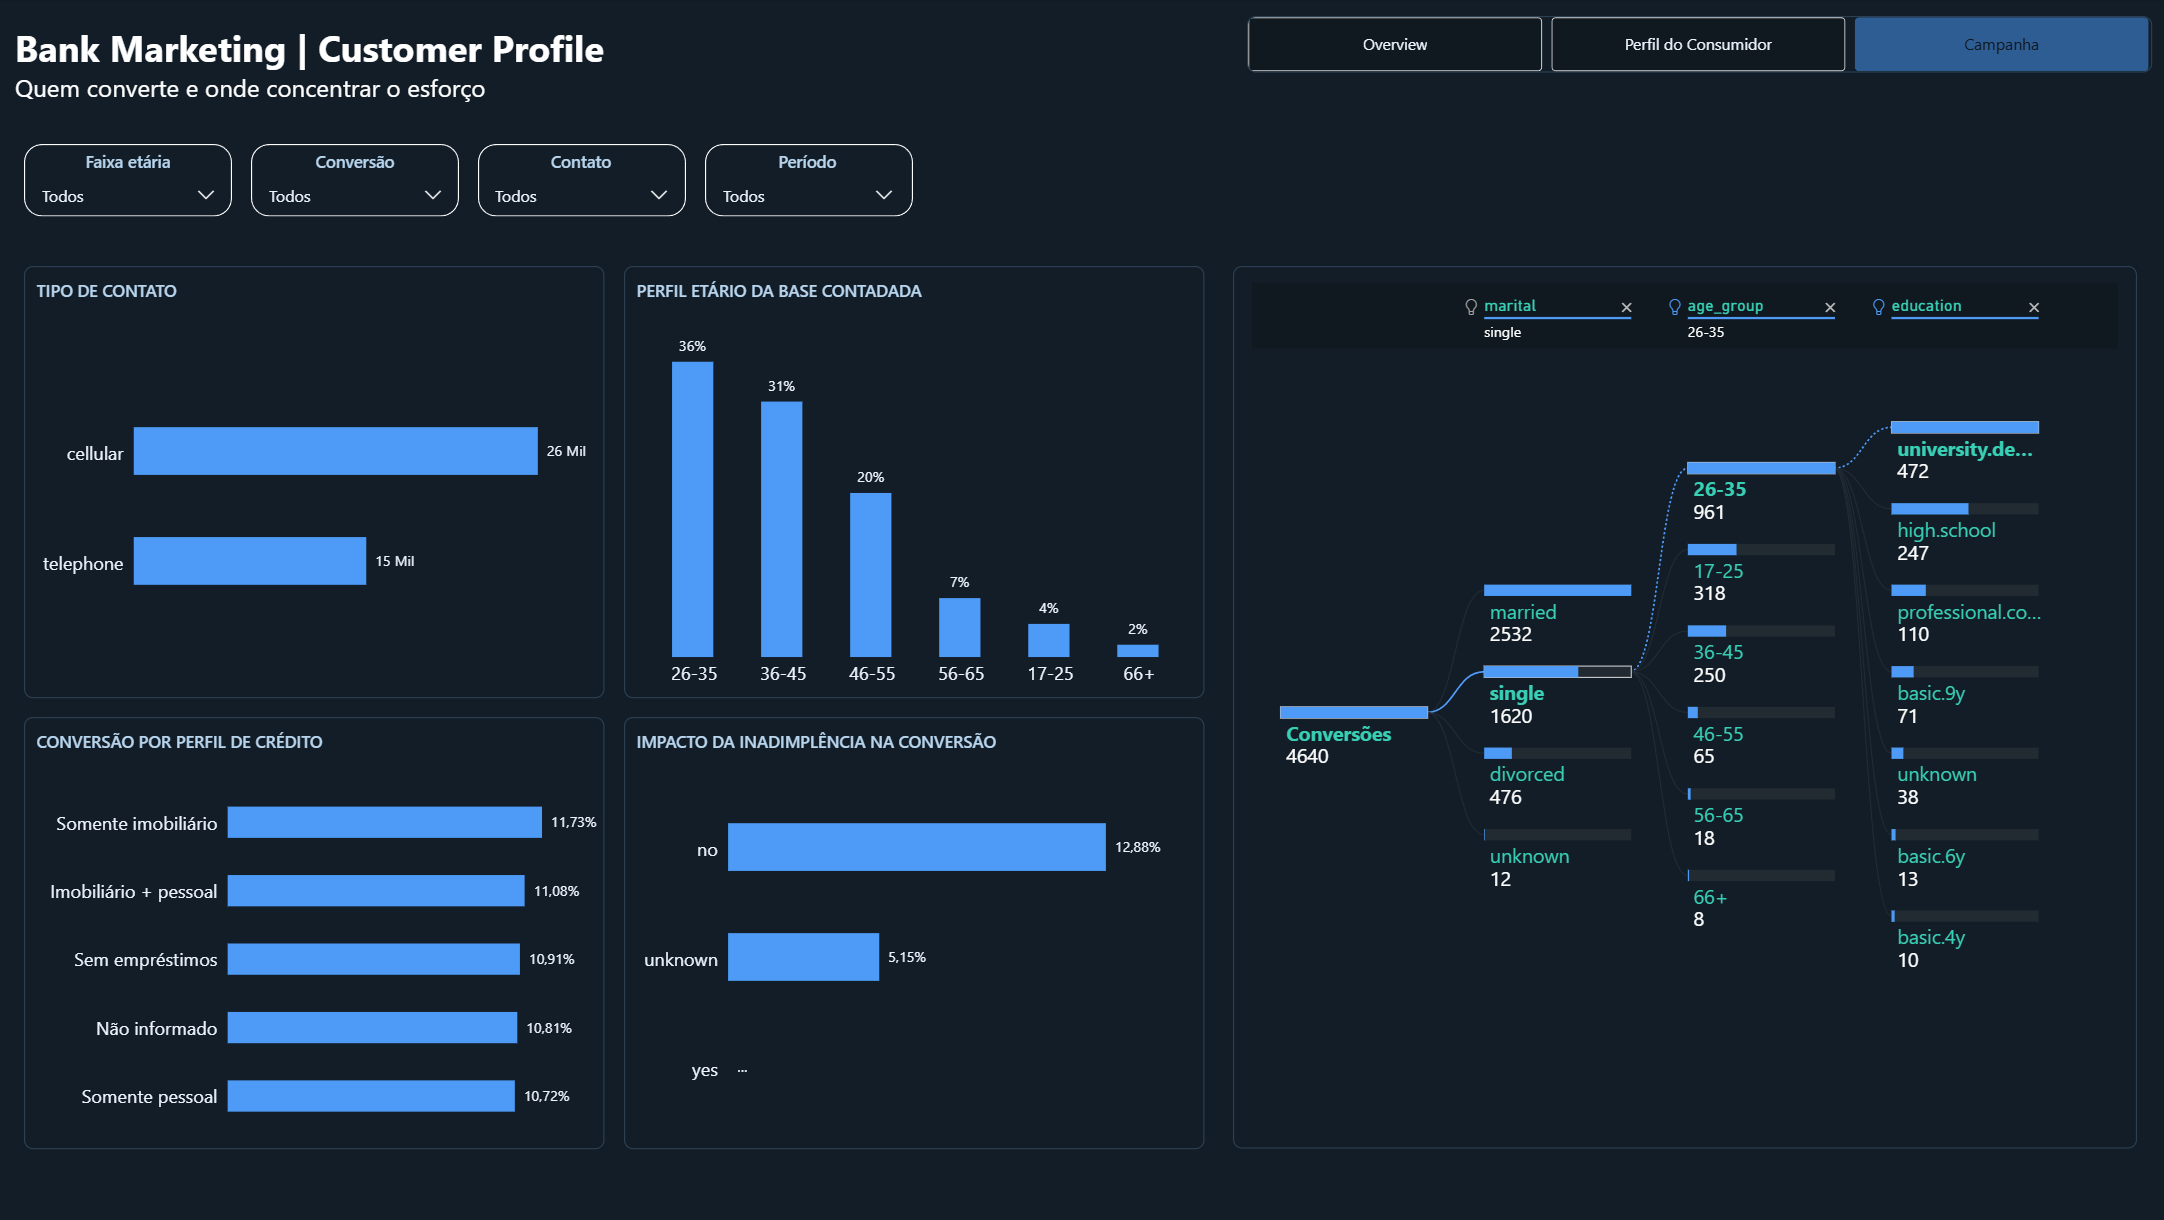

This screenshot's page, from the dashboard's own definition file:
{"tool":"powerbi","page":{"name":"Campanha","canvas":[1920,1080],"ordinal":2},"visuals":[{"type":"clusteredBarChart","title":"TIPO DE CONTATO","fields":{"Category":["vw_bank_marketing.contact"],"Y":["CountNonNull(vw_bank_marketing.contact)"]},"box":[24,236.4,512.8,381.6],"z":0},{"type":"clusteredColumnChart","title":"PERFIL ETÁRIO DA BASE CONTADADA","fields":{"Category":["vw_bank_marketing.age_group"],"Y":["CountNonNull(vw_bank_marketing.contact)"]},"box":[553.9,236.4,512.8,381.6],"z":1000},{"type":"clusteredBarChart","title":"CONVERSÃO POR PERFIL DE CRÉDITO","fields":{"Category":["vw_bank_marketing.Perfil de Crédito"],"Y":["vw_bank_marketing.Conversion Rate"]},"box":[24,635,512.8,381.6],"z":2000},{"type":"clusteredBarChart","title":"IMPACTO DA INADIMPLÊNCIA NA CONVERSÃO","fields":{"Category":["vw_bank_marketing.credit_default"],"Y":["vw_bank_marketing.Conversion Rate"]},"box":[553.9,635,512.8,381.6],"z":3000},{"type":"shape","box":[224.7,128.1,183.8,64.1],"z":4000},{"type":"shape","box":[425.2,128.1,183.8,64.1],"z":5000},{"type":"shape","box":[626,128.2,183.8,64.1],"z":6000},{"type":"shape","box":[24.1,128.1,183.8,64.1],"z":7000},{"type":"textbox","box":[15.7,20.3,575,85.7],"z":8000},{"type":"slicer","title":"Contato","fields":{"Values":["vw_bank_marketing.contact"]},"box":[424.7,128.2,183.8,64.1],"z":9000},{"type":"slicer","title":"Período","fields":{"Values":["vw_bank_marketing.month"]},"box":[625.8,128.1,181,64],"z":10000},{"type":"slicer","title":"Faixa etária","fields":{"Values":["vw_bank_marketing.age_group"]},"box":[24,128.2,183.8,64.1],"z":11000},{"type":"slicer","title":"Conversão","fields":{"Values":["vw_bank_marketing.Status Conversão"]},"box":[224.7,128.1,183.8,64.1],"z":12000},{"type":"decompositionTreeVisual","fields":{"Analyze":["vw_bank_marketing.Convertido"],"ExplainBy":["vw_bank_marketing.marital","vw_bank_marketing.education","vw_bank_marketing.age_group"]},"box":[1092.7,236.4,799.2,780.2],"z":13000},{"type":"pageNavigator","box":[1104.7,15,800.3,50.1],"z":14000}]}

Visuals, with their boxes in screenshot pixels (x1, y1, x2, y2), scaled from the page's 1920x1080 canvas onto the 2164x1220 screenshot:
"TIPO DE CONTATO" clusteredBarChart: 27:267:605:698
"PERFIL ETÁRIO DA BASE CONTADADA" clusteredColumnChart: 624:267:1202:698
"CONVERSÃO POR PERFIL DE CRÉDITO" clusteredBarChart: 27:717:605:1148
"IMPACTO DA INADIMPLÊNCIA NA CONVERSÃO" clusteredBarChart: 624:717:1202:1148
shape: 253:145:460:217
shape: 479:145:686:217
shape: 706:145:913:217
shape: 27:145:234:217
textbox: 18:23:666:120
"Contato" slicer: 479:145:686:217
"Período" slicer: 705:145:909:217
"Faixa etária" slicer: 27:145:234:217
"Conversão" slicer: 253:145:460:217
decompositionTreeVisual - vw_bank_marketing.Convertido x vw_bank_marketing.marital: 1232:267:2132:1148
pageNavigator: 1245:17:2147:74
